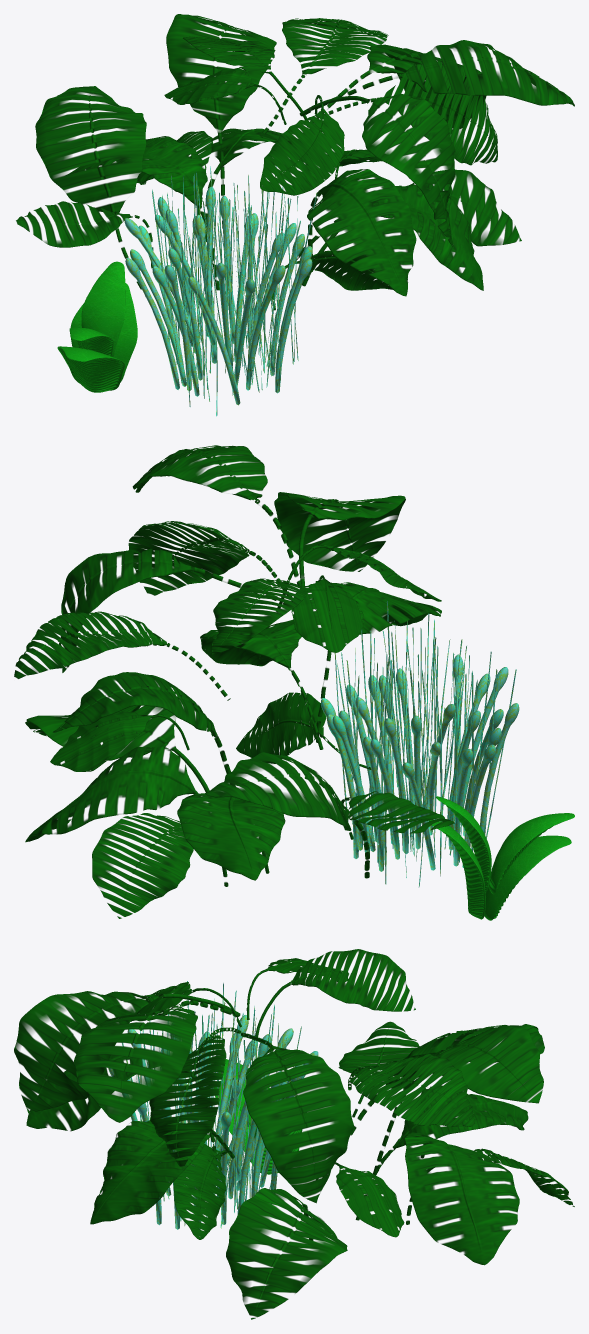
Rendered from dmtreevinesleaves2.glb.
3 renders of one model, top to bottom at view 1: azimuth 30°, elevation 25°; view 2: azimuth 150°, elevation 25°; view 3: azimuth 270°, elevation 25°, orthographic. The views are drawn at different scales.
Visible parts, largest first — view 1: stamen.076, leaf_005_mesh.001, leaf_010_mesh.007, leaf_003_mesh.008, Leaves.012, leaf_005_mesh.007, leaf_004_mesh.001, leaf_007_mesh.005, leaf_001_mesh.007, leaf_009_mesh.007, leaf_001_mesh.001, leaf_009_mesh.001 (+9 smaller); view 2: stamen.076, leaf_003_mesh.008, Leaves.012, leaf_002_mesh.001, leaf_009_mesh.001, leaf_010_mesh.001, leaf_005_mesh.001, leaf_001_mesh.001, leaf_001_mesh.007, leaf_004_mesh.007, leaf_004_mesh.001, leaf_005_mesh.007 (+9 smaller); view 3: leaf_004_mesh.007, leaf_010_mesh.001, leaf_005_mesh.007, stamen.076, leaf_003_mesh.001, leaf_003_mesh.008, leaf_009_mesh.007, leaf_004_mesh.001, leaf_001_mesh.001, leaf_001_mesh.007, leaf_002_mesh.007, leaf_007_mesh.001 (+9 smaller).
Boxes of the visible parts, box(x1,y1,x2,y2) form: stamen.076: box(124, 166, 317, 416); leaf_005_mesh.001: box(35, 86, 160, 316); leaf_010_mesh.007: box(307, 169, 416, 296); leaf_003_mesh.008: box(299, 93, 455, 247); Leaves.012: box(57, 261, 137, 392); leaf_005_mesh.007: box(305, 40, 574, 114); leaf_004_mesh.001: box(166, 14, 276, 228); leaf_007_mesh.005: box(260, 95, 344, 195); leaf_001_mesh.007: box(313, 61, 497, 165); leaf_009_mesh.007: box(288, 185, 483, 290); leaf_001_mesh.001: box(260, 18, 388, 137); leaf_009_mesh.001: box(66, 136, 219, 290); stamen.076: box(321, 601, 519, 887); leaf_003_mesh.008: box(274, 492, 405, 586); Leaves.012: box(429, 796, 574, 920); leaf_002_mesh.001: box(92, 813, 193, 918); leaf_009_mesh.001: box(177, 793, 285, 880); leaf_010_mesh.001: box(25, 747, 228, 886); leaf_005_mesh.001: box(205, 752, 369, 878); leaf_001_mesh.001: box(14, 611, 230, 700); leaf_001_mesh.007: box(128, 521, 292, 601); leaf_004_mesh.007: box(59, 548, 290, 672); leaf_004_mesh.001: box(52, 672, 235, 786); leaf_005_mesh.007: box(132, 445, 301, 586); leaf_004_mesh.007: box(241, 1032, 353, 1203); leaf_010_mesh.001: box(404, 1132, 519, 1265); leaf_005_mesh.007: box(74, 1000, 238, 1122); stamen.076: box(108, 981, 318, 1229); leaf_003_mesh.001: box(226, 1188, 347, 1319); leaf_003_mesh.008: box(14, 991, 240, 1113); leaf_009_mesh.007: box(90, 1120, 234, 1224); leaf_004_mesh.001: box(373, 1025, 543, 1174); leaf_001_mesh.001: box(348, 1054, 474, 1126); leaf_001_mesh.007: box(149, 1027, 241, 1166); leaf_002_mesh.007: box(254, 949, 415, 1040); leaf_007_mesh.001: box(173, 1144, 227, 1239).
Size of the model in its own units: 1.12 by 0.69 by 1.13.
3 materials, 3 textured.
